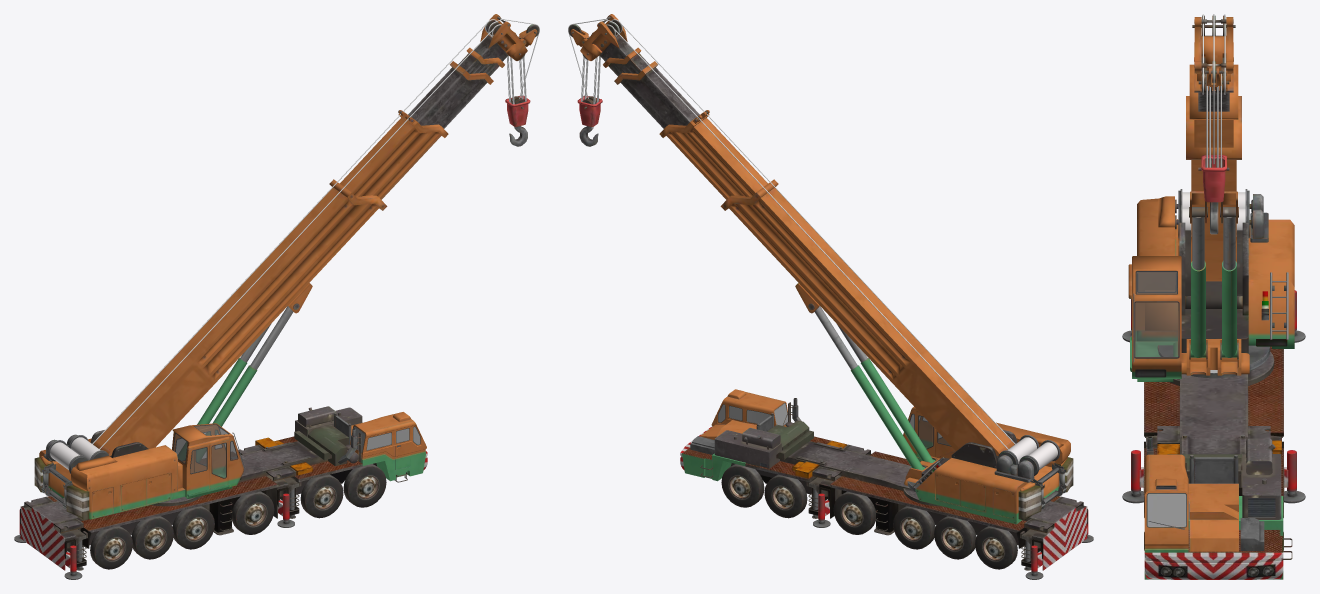
Rendered from crane-all-terrain.glb.
The picture shows the model from 3 angles, left to right: view 1: azimuth 30°, elevation 25°; view 2: azimuth 150°, elevation 25°; view 3: azimuth 270°, elevation 25°; orthographic projection. The views are drawn at different scales.
Visible parts, largest first — view 1: Object_24, Object_30, Object_26, Object_23, Object_32, Object_34, Object_40, Object_38, Object_46, Object_28, Object_42, Object_44 (+1 smaller); view 2: Object_24, Object_30, Object_26, Object_23, Object_32, Object_34, Object_46, Object_40, Object_38, Object_42, Object_44, Object_36; view 3: Object_26, Object_23, Object_24, Object_30, Object_28, Object_46, Object_38, Object_32, Object_42, Object_44, Object_40, Object_34.
Part boxes in pixels (bbox=[...]): Object_24: bbox=[14, 436, 407, 579]; Object_30: bbox=[93, 179, 387, 455]; Object_26: bbox=[34, 423, 245, 520]; Object_23: bbox=[294, 406, 427, 481]; Object_32: bbox=[340, 110, 448, 199]; Object_34: bbox=[408, 61, 493, 128]; Object_40: bbox=[92, 19, 539, 449]; Object_38: bbox=[474, 14, 539, 61]; Object_46: bbox=[178, 358, 257, 461]; Object_28: bbox=[174, 424, 237, 477]; Object_42: bbox=[240, 303, 299, 369]; Object_44: bbox=[505, 95, 530, 146]; Object_24: bbox=[700, 436, 1093, 579]; Object_30: bbox=[720, 179, 1014, 455]; Object_26: bbox=[903, 407, 1073, 524]; Object_23: bbox=[680, 389, 813, 481]; Object_32: bbox=[659, 110, 767, 199]; Object_34: bbox=[614, 61, 699, 128]; Object_46: bbox=[850, 358, 936, 470]; Object_40: bbox=[568, 19, 1015, 449]; Object_38: bbox=[568, 14, 633, 61]; Object_42: bbox=[808, 303, 867, 369]; Object_44: bbox=[577, 96, 602, 146]; Object_36: bbox=[603, 47, 649, 76]; Object_26: bbox=[1128, 189, 1294, 381]; Object_23: bbox=[1144, 436, 1283, 579]; Object_24: bbox=[1122, 290, 1305, 559]; Object_30: bbox=[1186, 96, 1241, 281]; Object_28: bbox=[1135, 272, 1178, 357]; Object_46: bbox=[1189, 261, 1238, 359]; Object_38: bbox=[1192, 15, 1235, 93]; Object_32: bbox=[1189, 57, 1238, 147]; Object_42: bbox=[1189, 207, 1238, 270]; Object_44: bbox=[1198, 155, 1229, 234]; Object_40: bbox=[1202, 14, 1225, 167]; Object_34: bbox=[1194, 42, 1233, 111].
Bounding box in the file's own units: 19.25 × 16.05 × 3.96.
7 materials, 4 textured.
